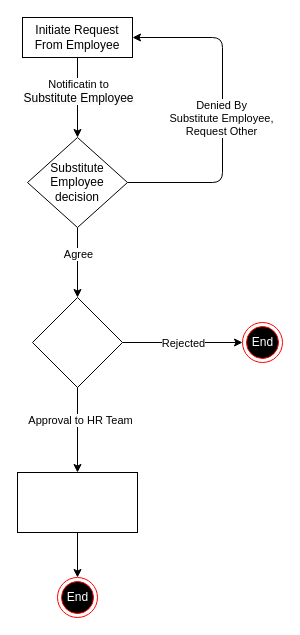
The diagram is 300 pixels wide and 635 high, and some of its shapes have lost their labels. The shapes that lost their labels are listed below. From the top down, each one's box as (x1, y1, x2, y2) in pixels, then its label:
(32, 296, 122, 388): Review by manager
(16, 472, 138, 532): HR Team Approved
